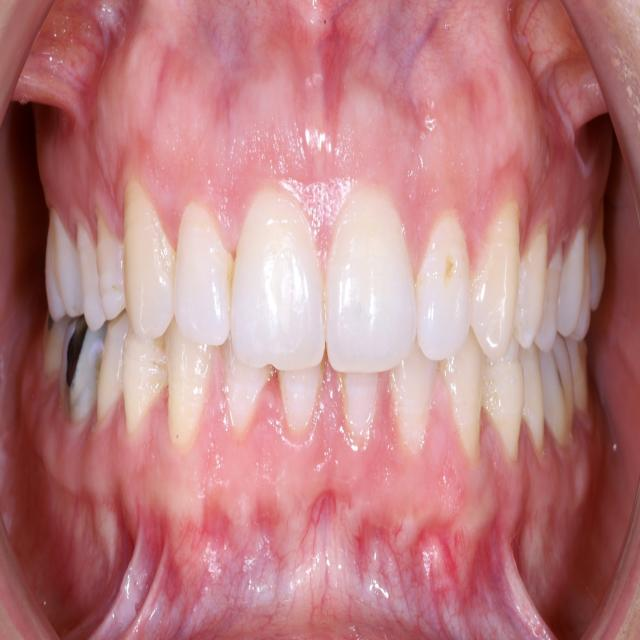tooth: (320, 185, 418, 376), (232, 191, 324, 367), (412, 210, 472, 360), (174, 215, 230, 343), (474, 220, 521, 362), (126, 194, 174, 332), (448, 366, 500, 468), (169, 340, 211, 443), (94, 218, 128, 309), (77, 219, 107, 322), (392, 382, 431, 457), (49, 212, 80, 304), (520, 224, 544, 339), (98, 324, 128, 416), (133, 347, 167, 418), (224, 363, 258, 429), (338, 379, 377, 431), (287, 377, 322, 434)
